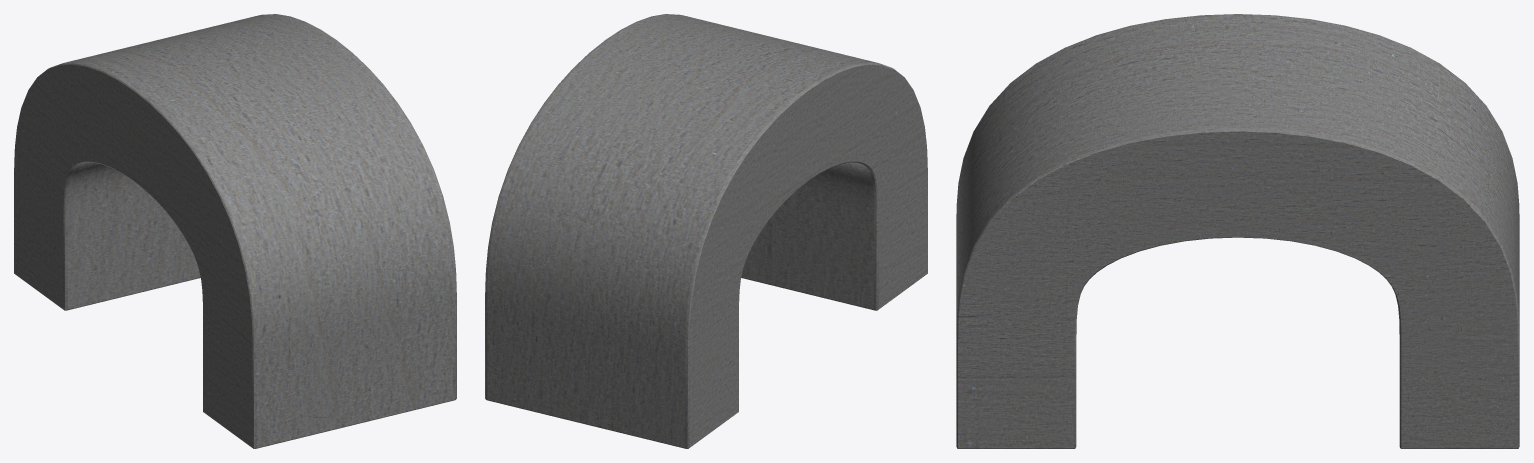
File: C Arch UVed OBJ.obj
3 views of the same model, side by side, from view 1: azimuth 30°, elevation 25°; view 2: azimuth 150°, elevation 25°; view 3: azimuth 270°, elevation 25° (orthographic). The views are drawn at different scales.
Parts seen in each view (by area): view 1: pCube5; view 2: pCube5; view 3: pCube5.
Part boxes in pixels (<box>): pCube5: <box>14,14,456,448</box>; pCube5: <box>485,14,927,448</box>; pCube5: <box>956,14,1519,448</box>.
Bounding box in the file's own units: 195 × 249 × 397.
Materials: 1 (1 with a texture image).
